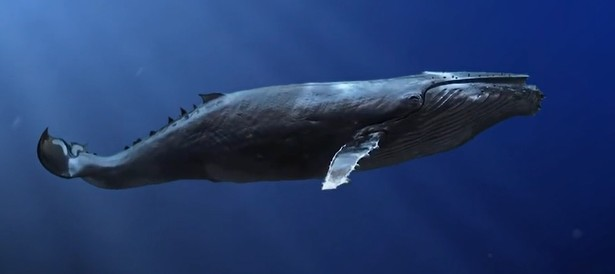whale: (28, 70, 543, 193)
